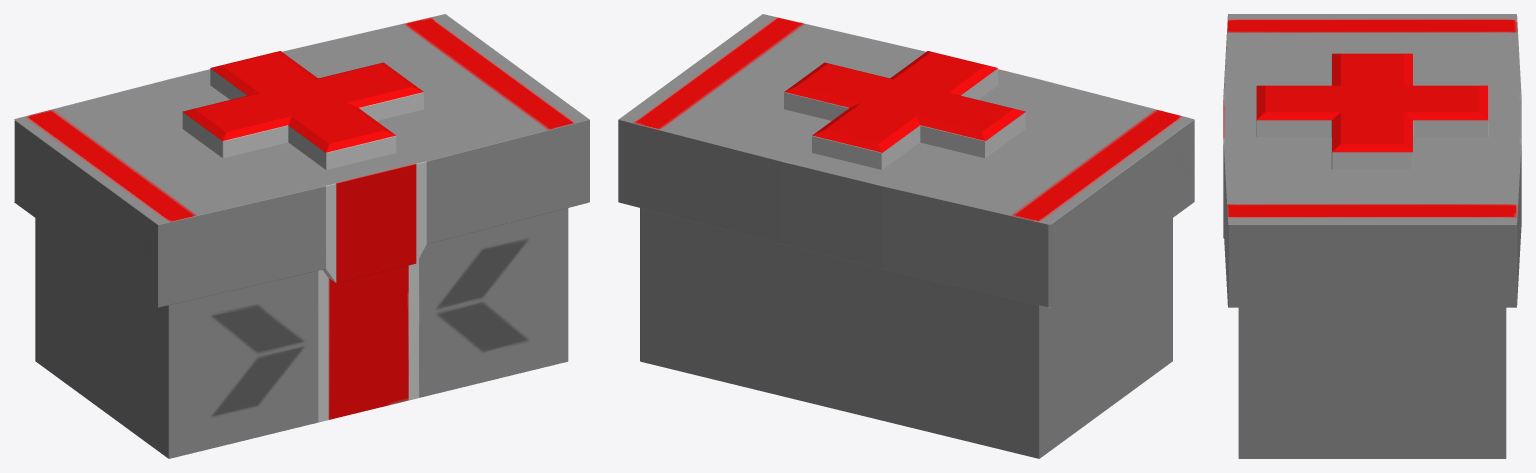
The model's file is SM_Medicine_Box.fbx.
3 views of the same model, side by side, from view 1: azimuth 30°, elevation 25°; view 2: azimuth 150°, elevation 25°; view 3: azimuth 270°, elevation 25° (orthographic).
Parts seen in each view (by area): view 1: SM_Medicine_Box; view 2: SM_Medicine_Box; view 3: SM_Medicine_Box.
Part boxes in pixels (<box>): SM_Medicine_Box: <box>14,14,589,458</box>; SM_Medicine_Box: <box>618,14,1194,458</box>; SM_Medicine_Box: <box>1223,14,1521,458</box>.
Size of the model in its own units: 77.97 by 46.55 by 45.41.
Materials: 1 (1 with a texture image).
